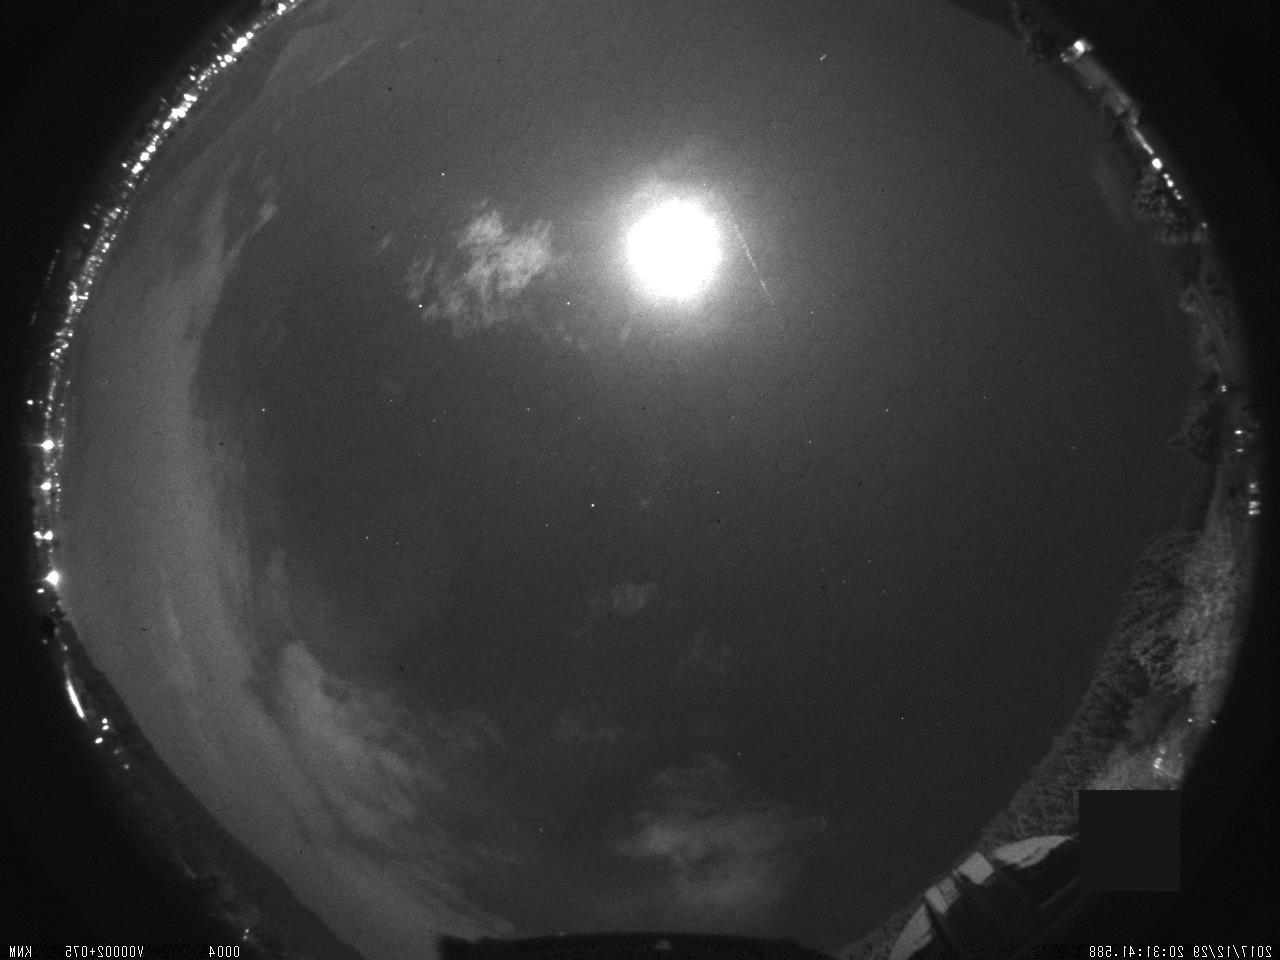meteor: (723, 194, 781, 343)
